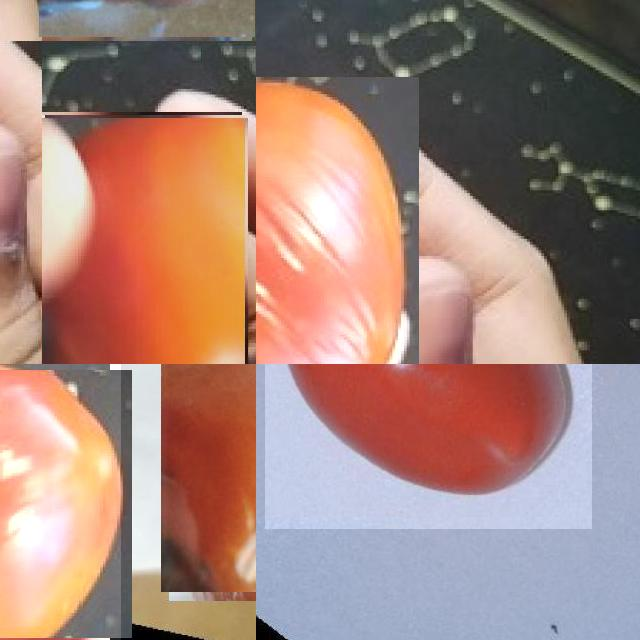0: (265, 364, 592, 529)
Fresh Tomato: (42, 115, 245, 364)
Rotten Tomato: (256, 77, 419, 364), (0, 364, 121, 640), (164, 364, 256, 596)
